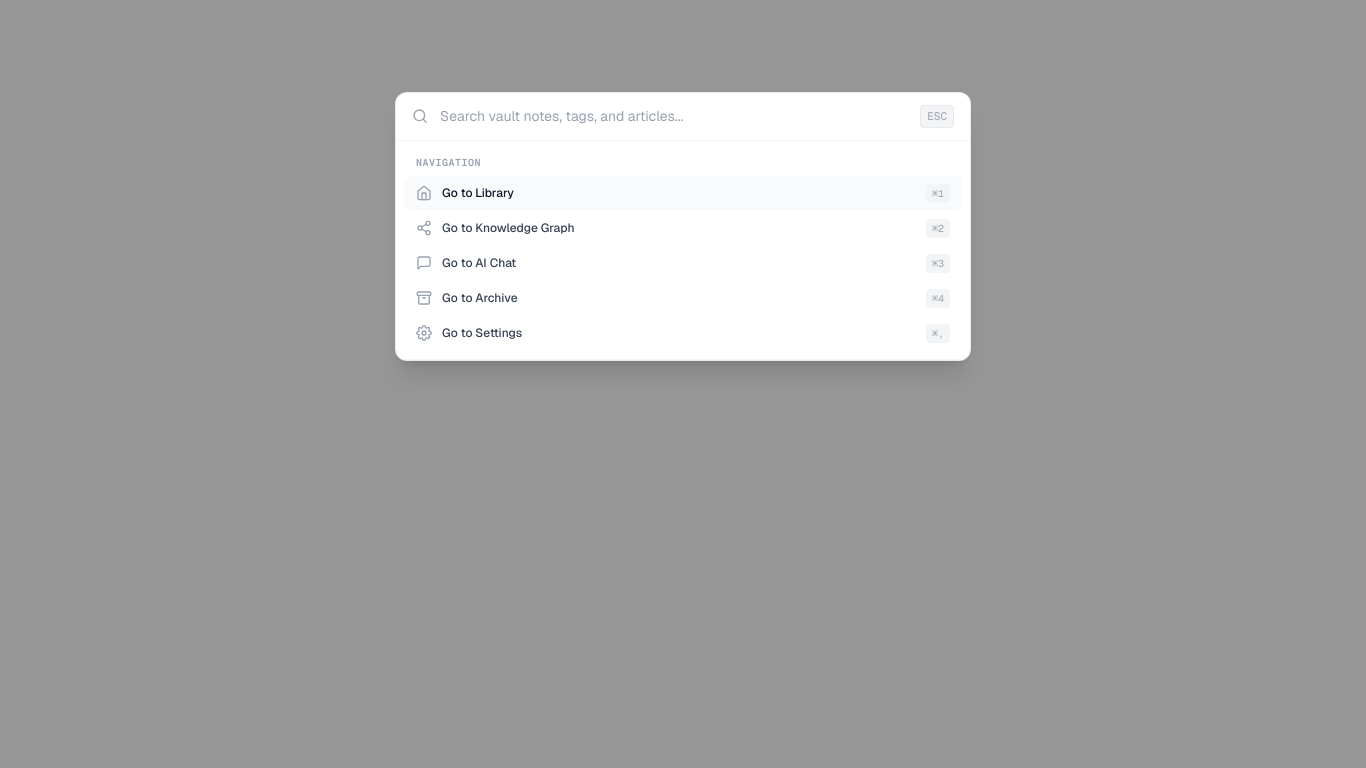
CommandPalette.vue › filters navigation commands based on query
Step 1. Type "graph" into the field with placeholder "Search vault notes, tags, and articles..." → (674, 116), box [440,106,908,126]
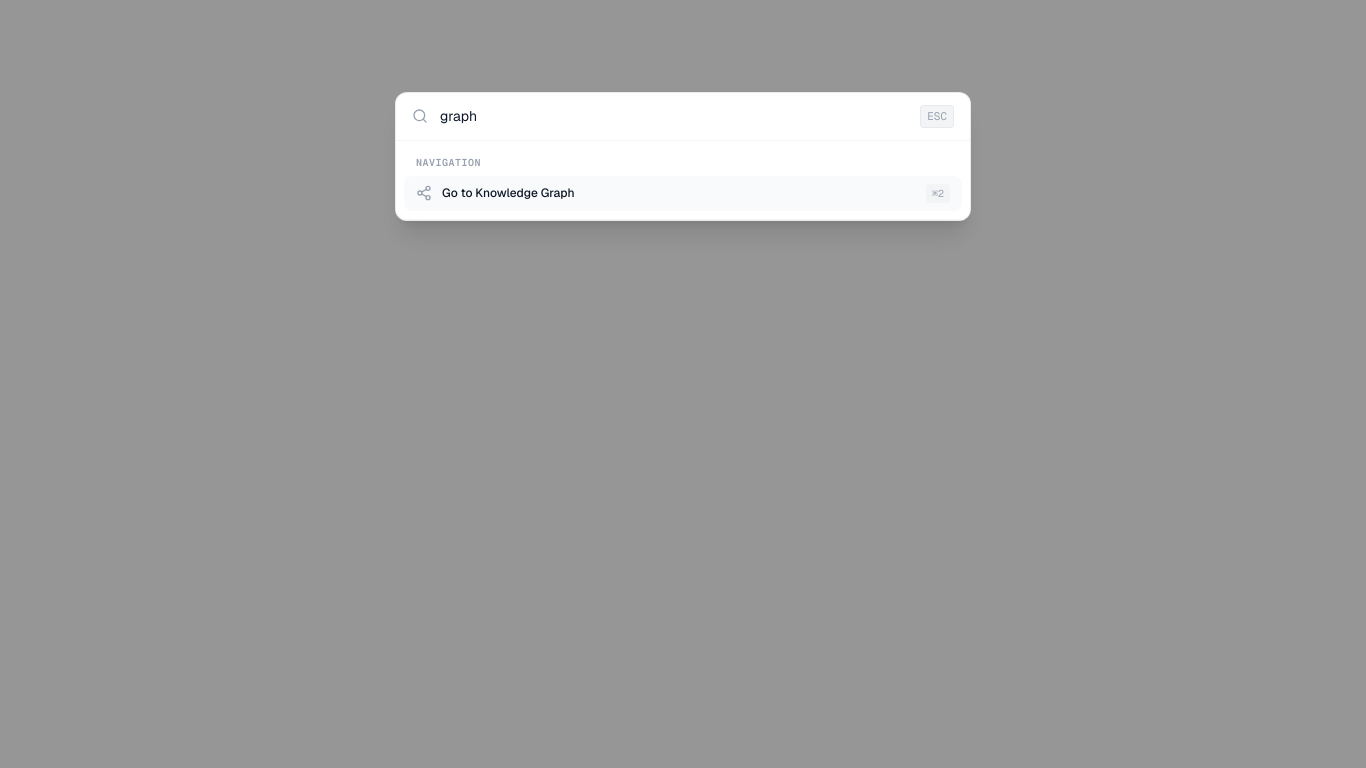
Expected: the text "Go to Knowledge Graph" is shown, [442,185,575,201]
Expected: the text "Go to Library" is gone
Expected: the text "Go to AI Chat" is gone
